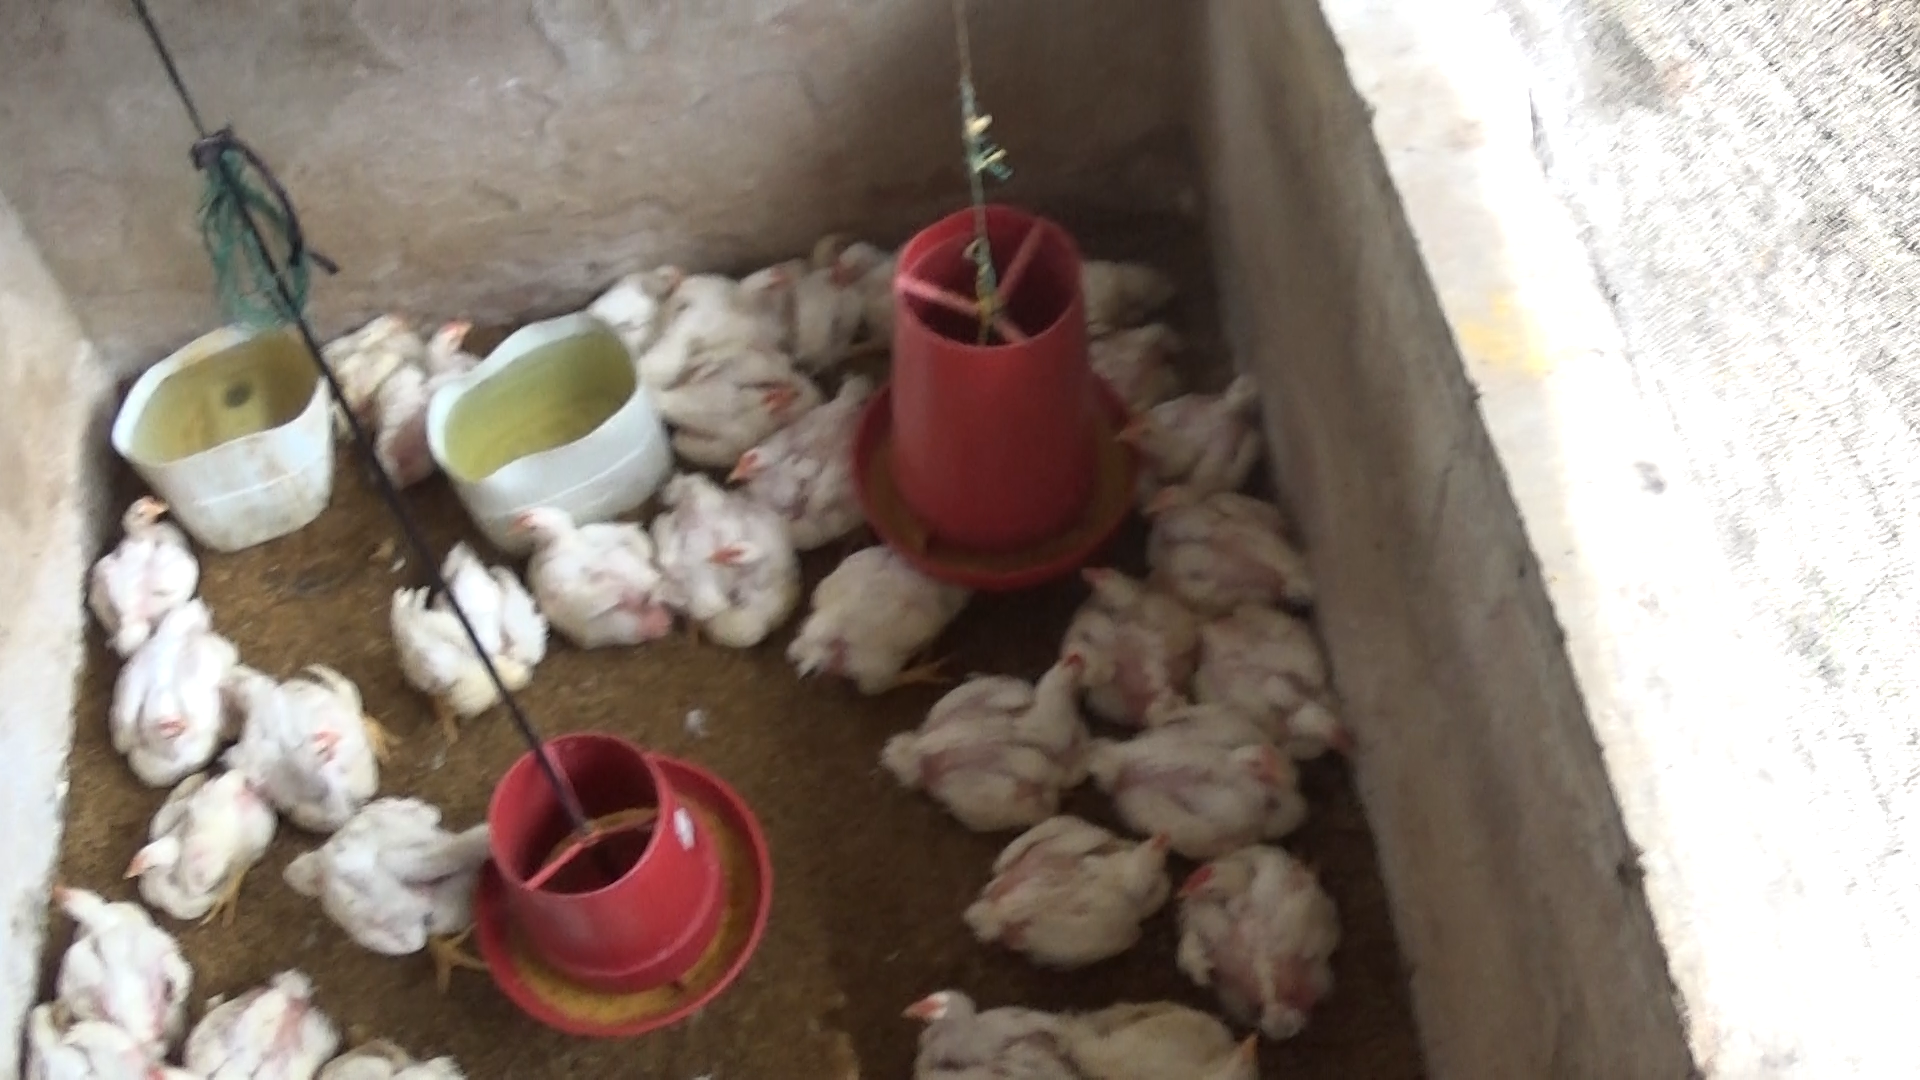Pollos: (265, 782, 498, 968), (877, 640, 1108, 825), (963, 803, 1180, 975), (1168, 825, 1345, 1027), (376, 537, 545, 742), (1121, 473, 1323, 640), (785, 538, 988, 696), (1185, 593, 1352, 775), (1087, 705, 1307, 843), (644, 471, 802, 651), (227, 649, 382, 832), (100, 593, 243, 787), (1067, 554, 1212, 738), (501, 502, 675, 654), (1040, 968, 1273, 1080), (1105, 375, 1296, 506), (727, 382, 880, 547), (34, 877, 191, 1036), (125, 762, 265, 928), (363, 309, 488, 484), (877, 975, 1080, 1080), (633, 345, 818, 458), (200, 943, 342, 1080), (651, 264, 806, 381), (88, 487, 196, 649), (310, 295, 434, 426), (835, 212, 945, 340), (774, 232, 865, 361), (593, 229, 690, 322)
